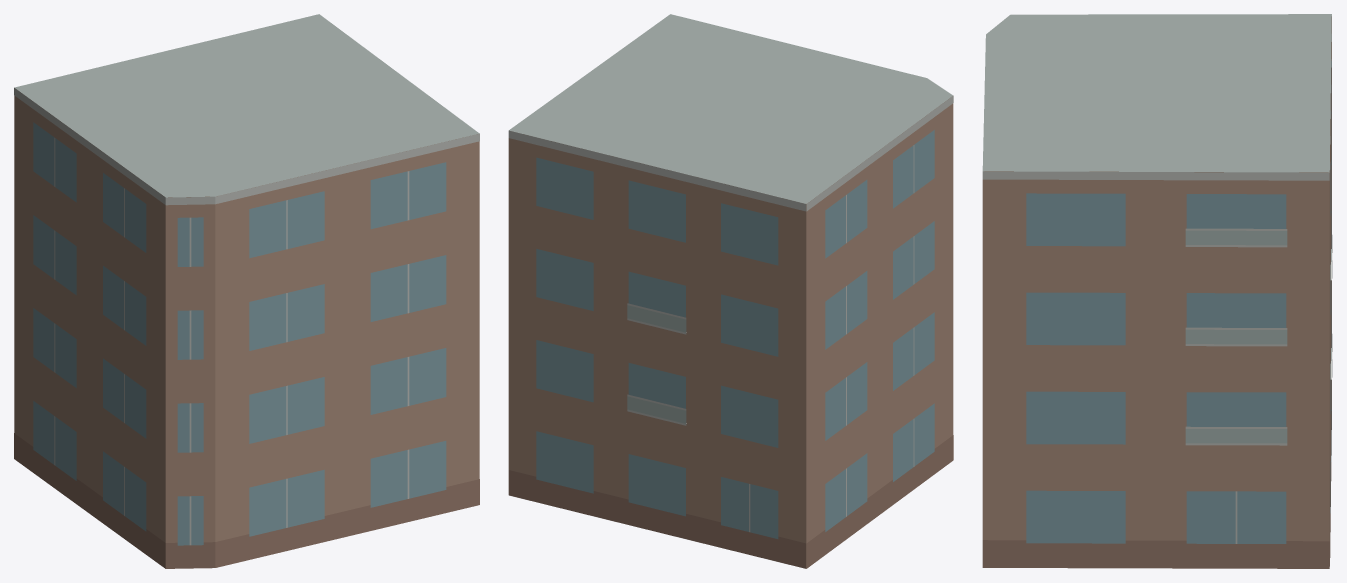
Rendered from survey-upis-33043547.glb.
3 views of the same model, side by side, from view 1: azimuth 30°, elevation 25°; view 2: azimuth 150°, elevation 25°; view 3: azimuth 270°, elevation 25° (orthographic). The views are drawn at different scales.
Visible parts, largest first — view 1: survey-upis-33043547.tmp; view 2: survey-upis-33043547.tmp; view 3: survey-upis-33043547.tmp.
Boxes of the visible parts, x1=… form: survey-upis-33043547.tmp: x1=14, y1=14, x2=479, y2=568; survey-upis-33043547.tmp: x1=508, y1=14, x2=953, y2=568; survey-upis-33043547.tmp: x1=982, y1=14, x2=1332, y2=568.
Bounding box in the file's own units: 10.11 × 11.75 × 9.4.
